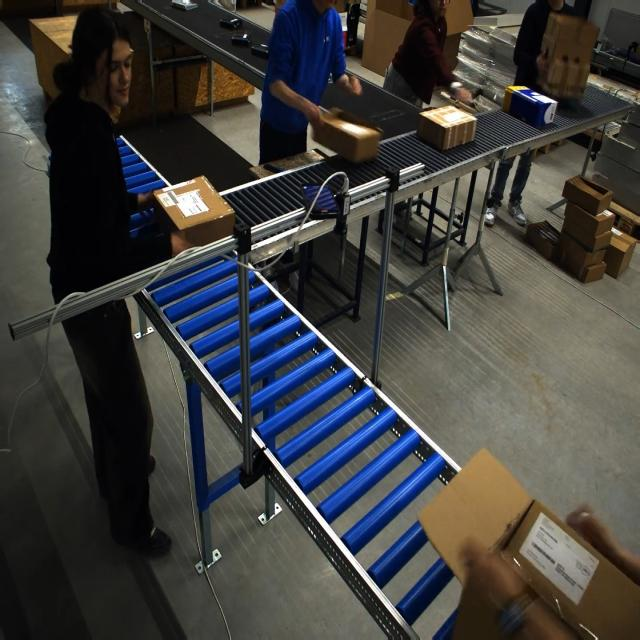box: (418, 446, 640, 633), (152, 177, 234, 251), (315, 108, 374, 164), (417, 105, 477, 152), (501, 84, 558, 128)
product: (170, 0, 198, 11), (219, 17, 242, 30), (231, 32, 251, 46), (251, 44, 269, 59)
